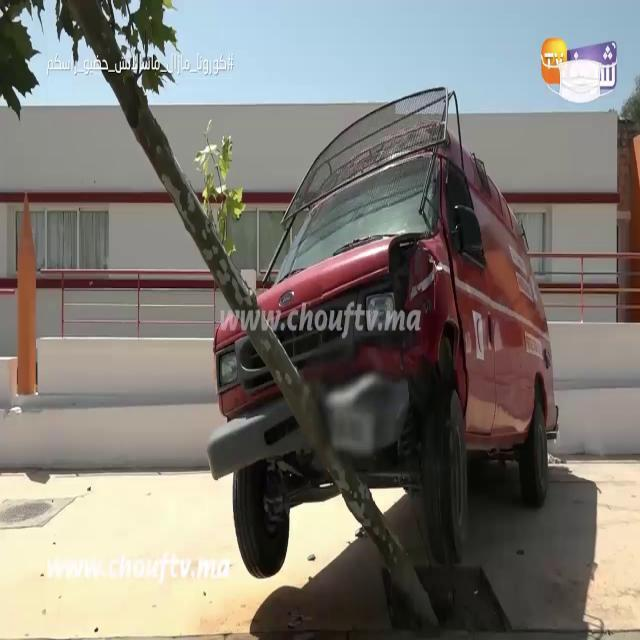ambulance: (207, 92, 558, 578)
